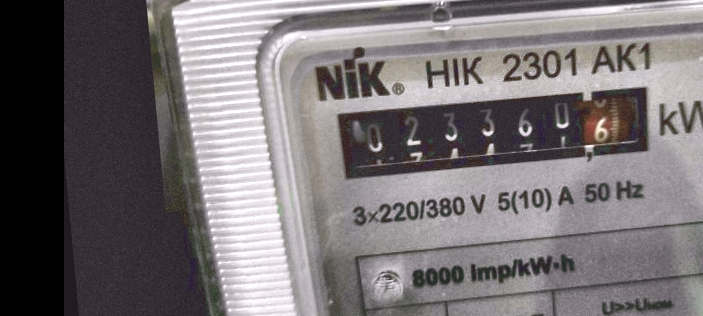0: (362, 119, 386, 154), (552, 98, 572, 130)
2: (400, 112, 426, 148)
3: (437, 109, 461, 143), (476, 105, 498, 137)
6: (512, 104, 535, 138), (588, 112, 612, 143)
screen: (318, 67, 667, 196)
